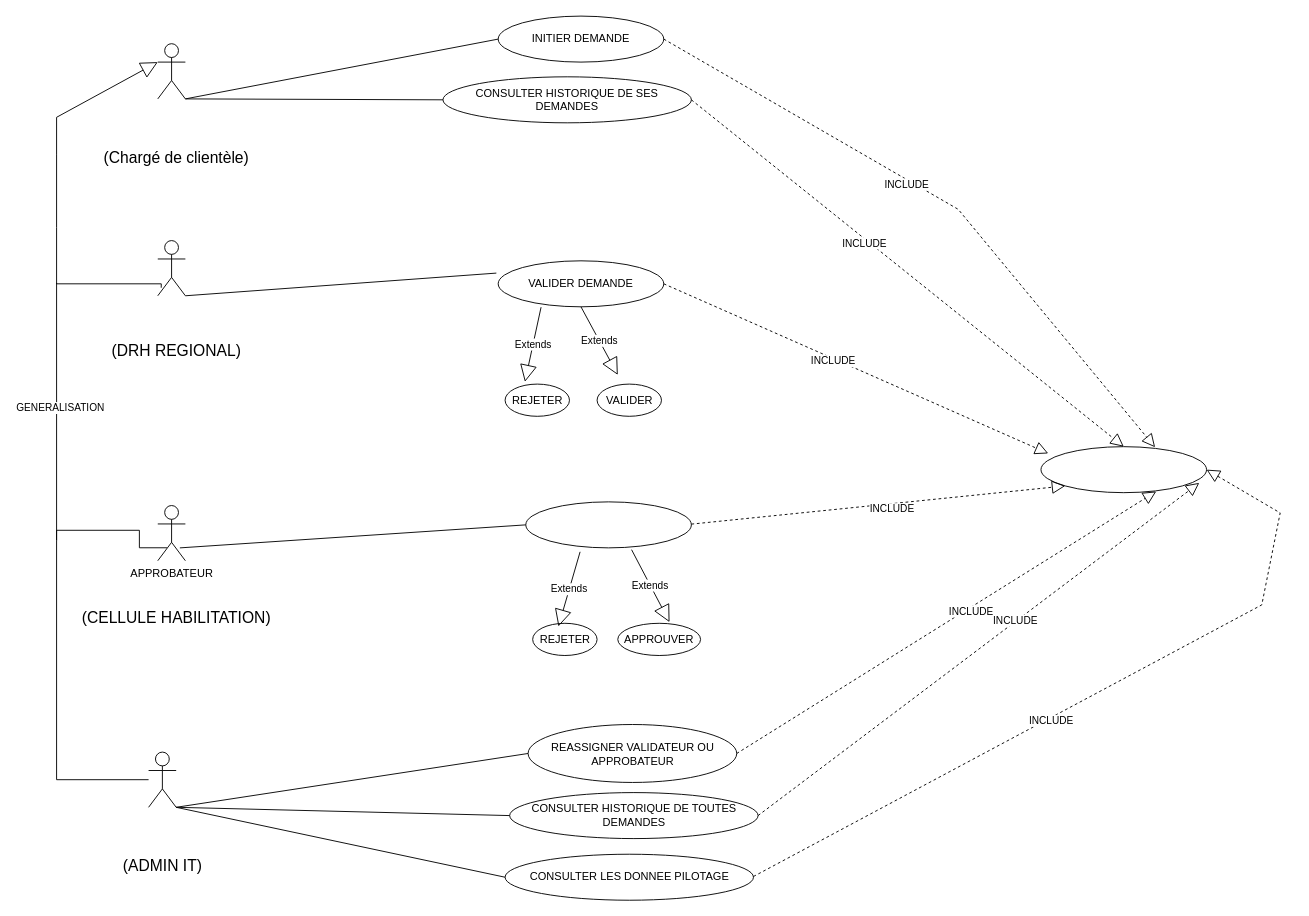
Some shapes in this 1309 by 916 pixel diagram are drawn without their labels. Each missing label, with the box of its shape:
ADMIN: (148, 751, 176, 807)
APPROUVER DEMANDE: (525, 501, 691, 548)
AUTHENTIFICATION: (1040, 446, 1207, 493)
INITIATEUR: (157, 43, 185, 99)
VALIDATEUR: (157, 240, 185, 296)
